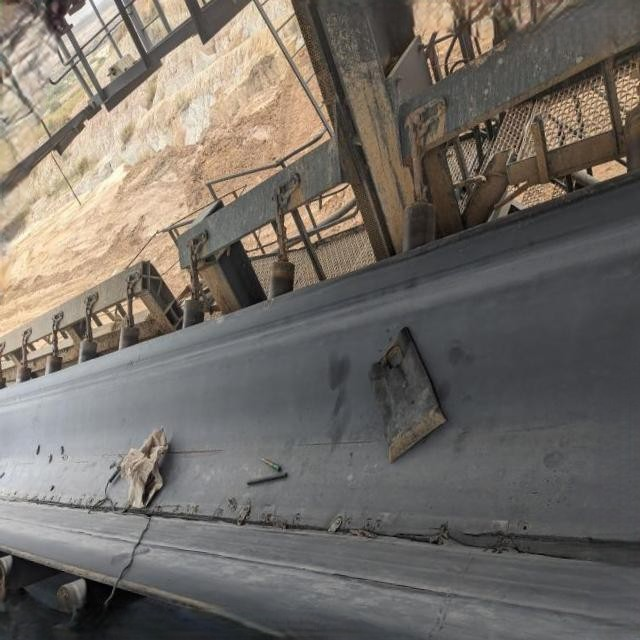Tear: (0, 488, 620, 572)
